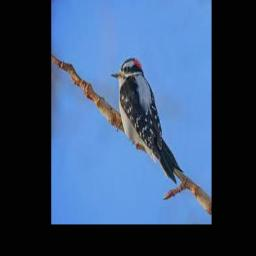Woodpecker: (111, 58, 183, 183)
